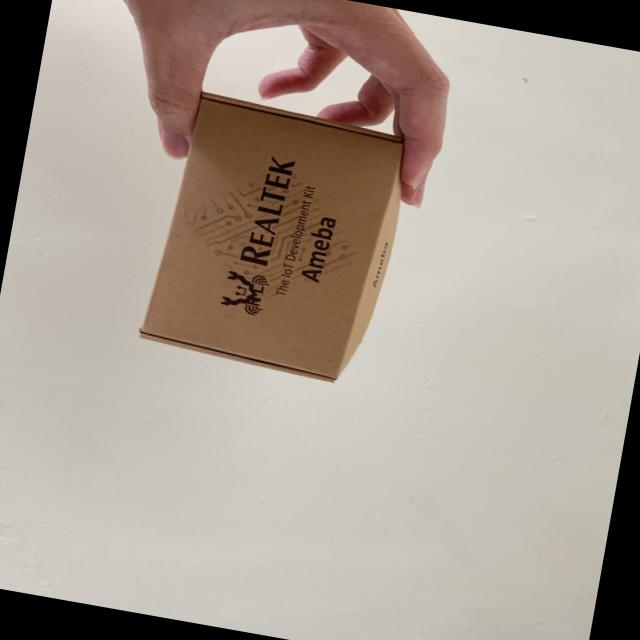box: (134, 77, 430, 396)
